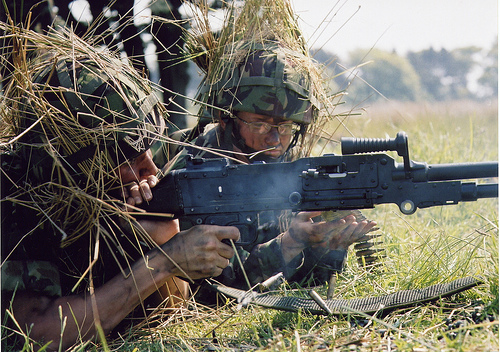rifle: (319, 131, 494, 260)
rifle in hand: (152, 149, 488, 314)
